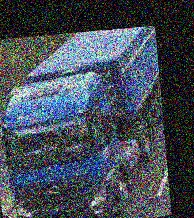truck: (0, 26, 172, 218)
